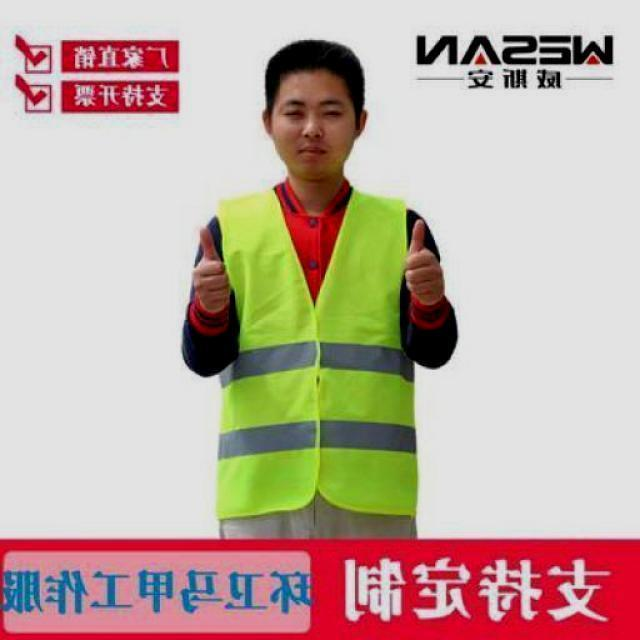vest: (214, 177, 420, 514)
